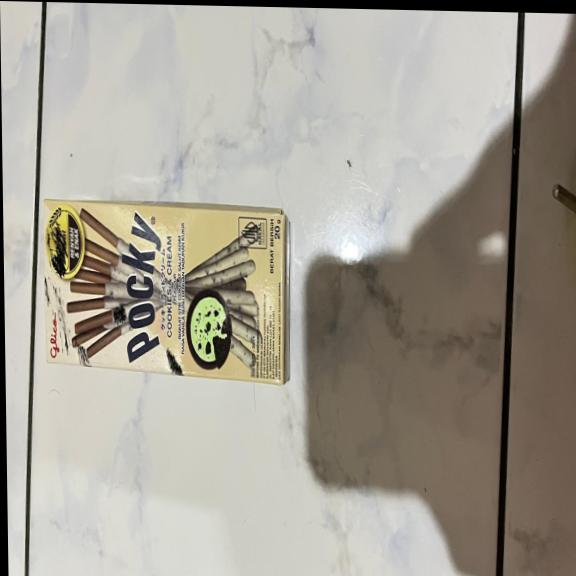Kertas: (42, 195, 283, 383)
